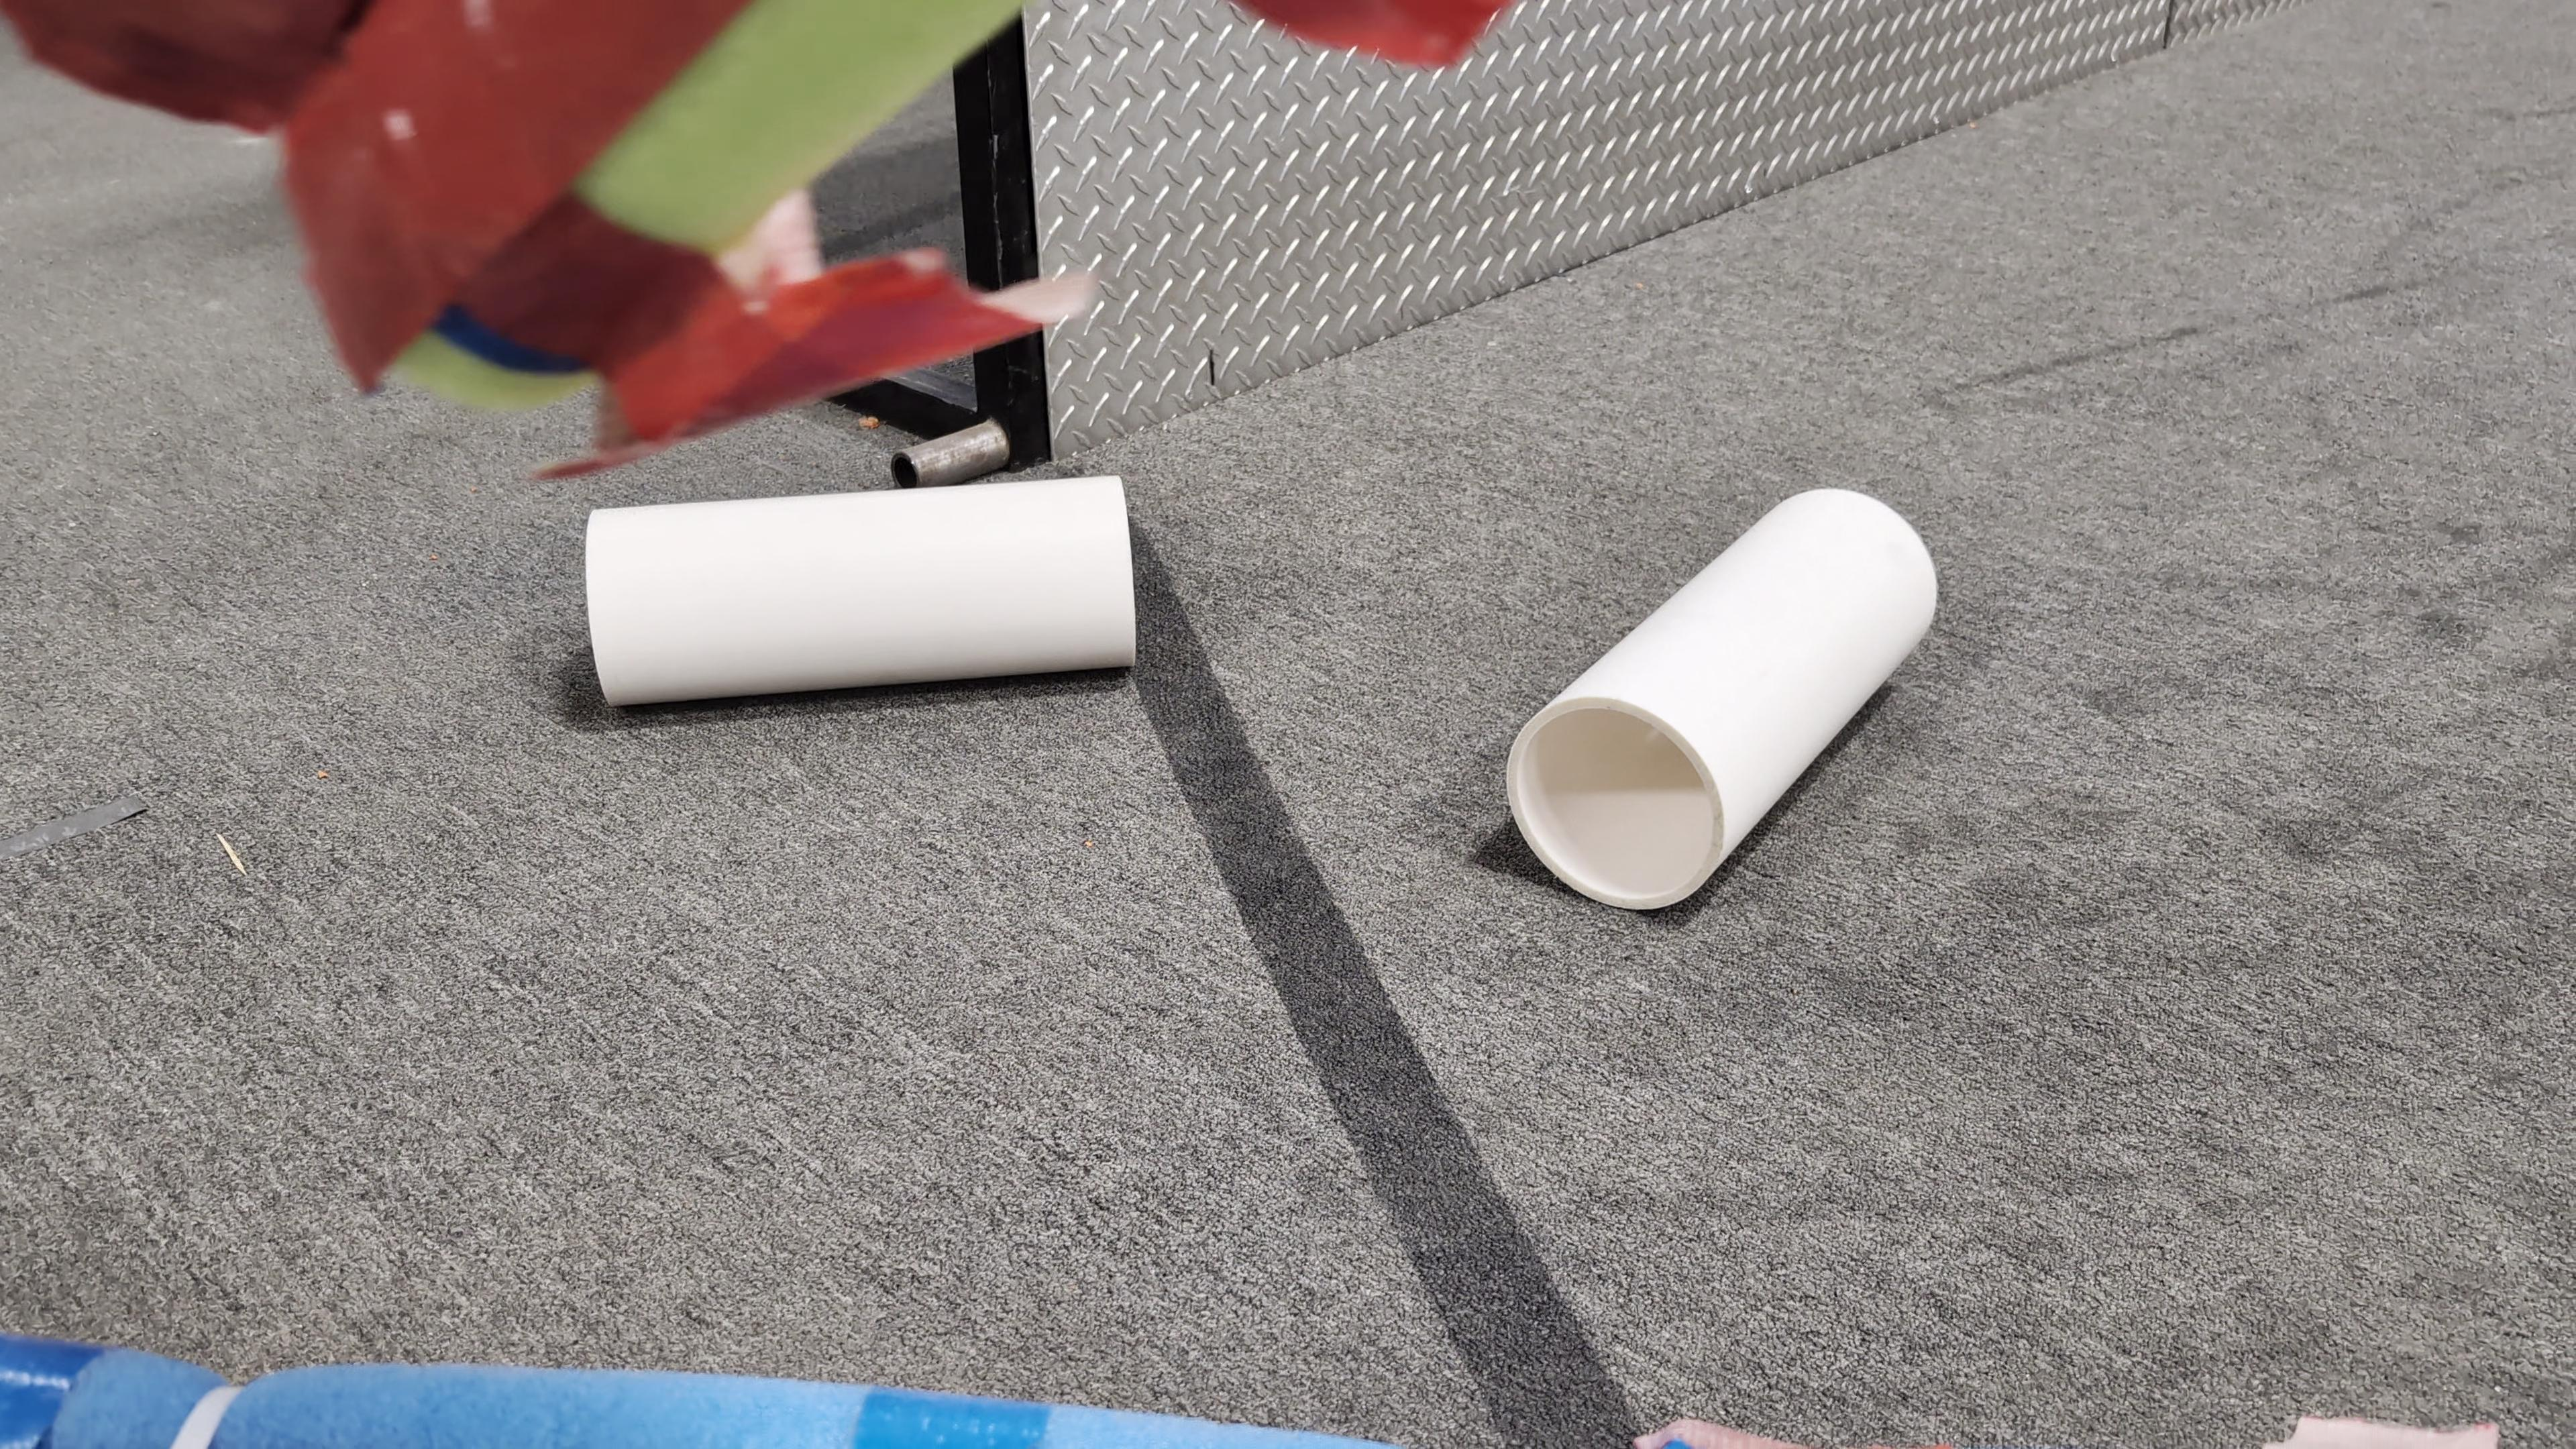coral: (1504, 482, 1939, 908), (584, 468, 1140, 705)
